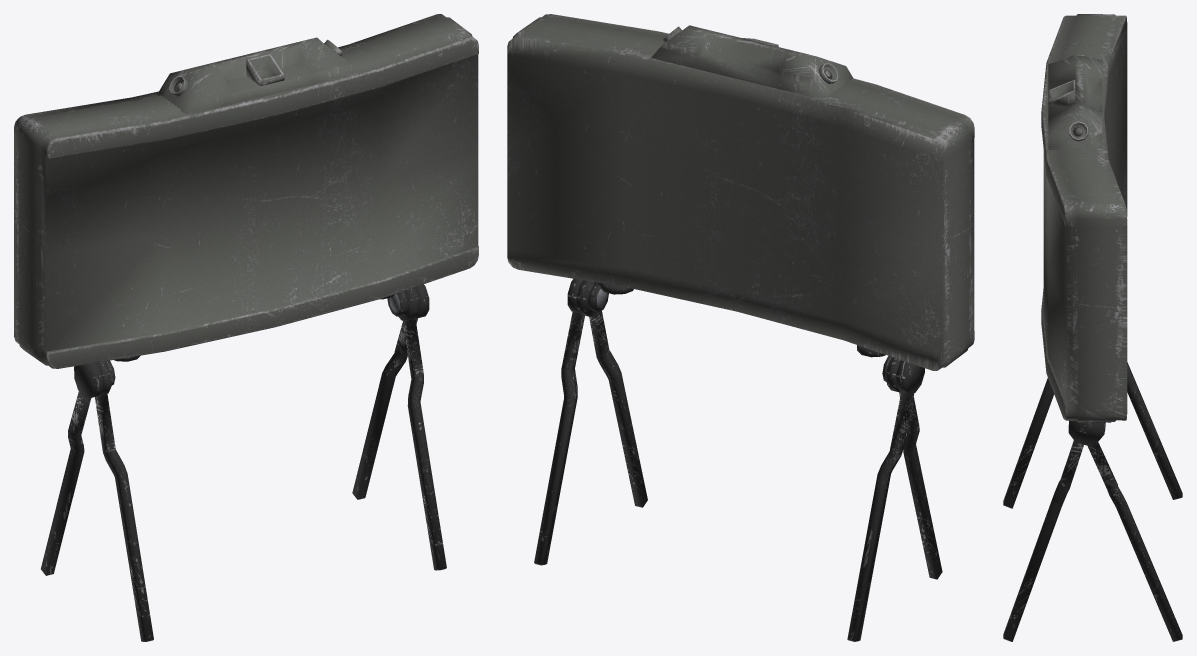
Rendered from cc0-guns-explosives-pack-glb--claymore.glb.
3 views of the same model, side by side, from view 1: azimuth 30°, elevation 25°; view 2: azimuth 150°, elevation 25°; view 3: azimuth 270°, elevation 25° (orthographic). The views are drawn at different scales.
Parts seen in each view (by area): view 1: Claymore; view 2: Claymore; view 3: Claymore.
Boxes of the visible parts, x1,y1,x2,y2 form: Claymore: [14, 14, 478, 641]; Claymore: [507, 14, 974, 641]; Claymore: [1003, 14, 1182, 641].
Size of the model in its own units: 0.209 by 0.2405 by 0.08.
1 material, 1 textured.
